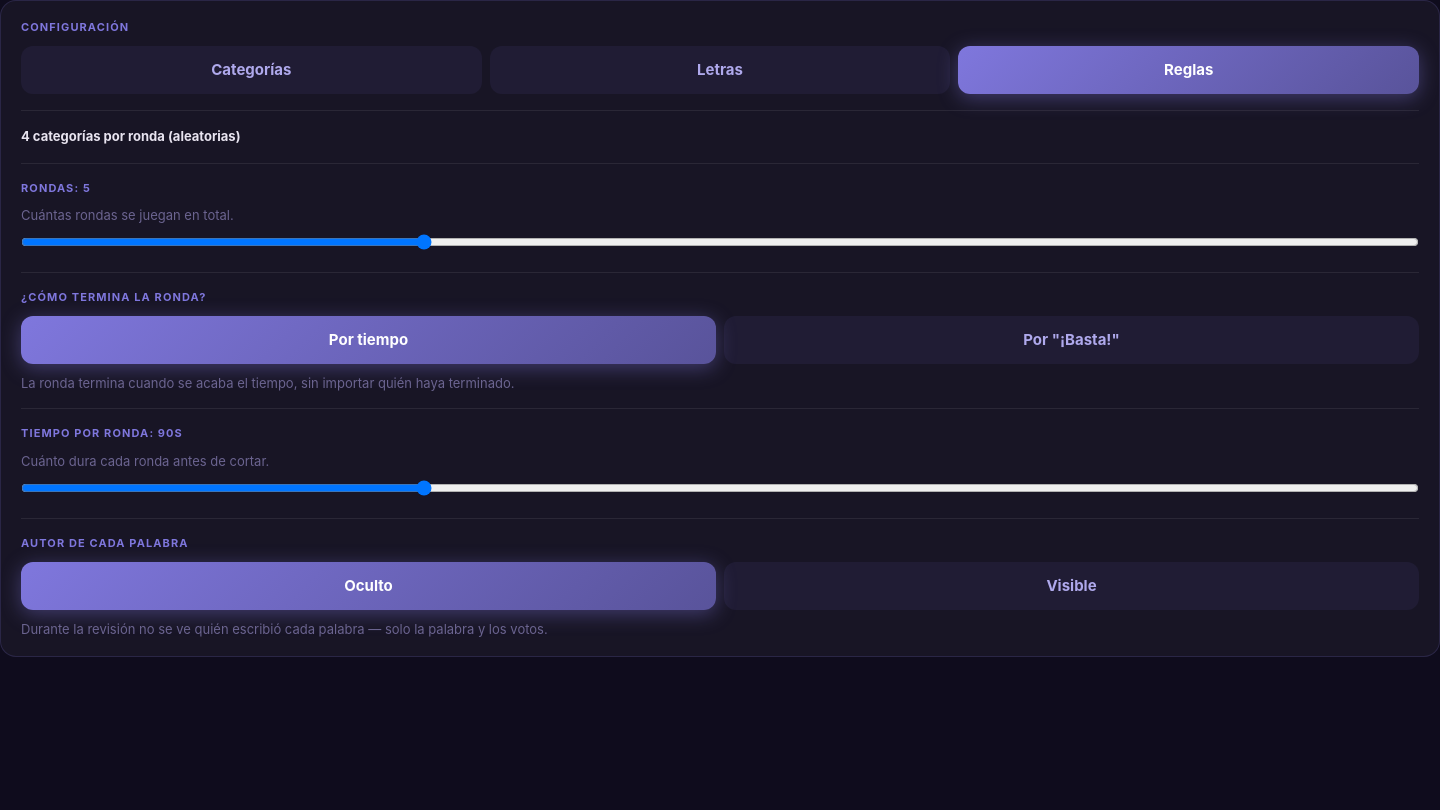
Test: Tutifrutti ConfigPanel › random category mode hides the manual toggle list and shows the count slider
Click the button "Categorías": (251, 70) [21,46,482,94]
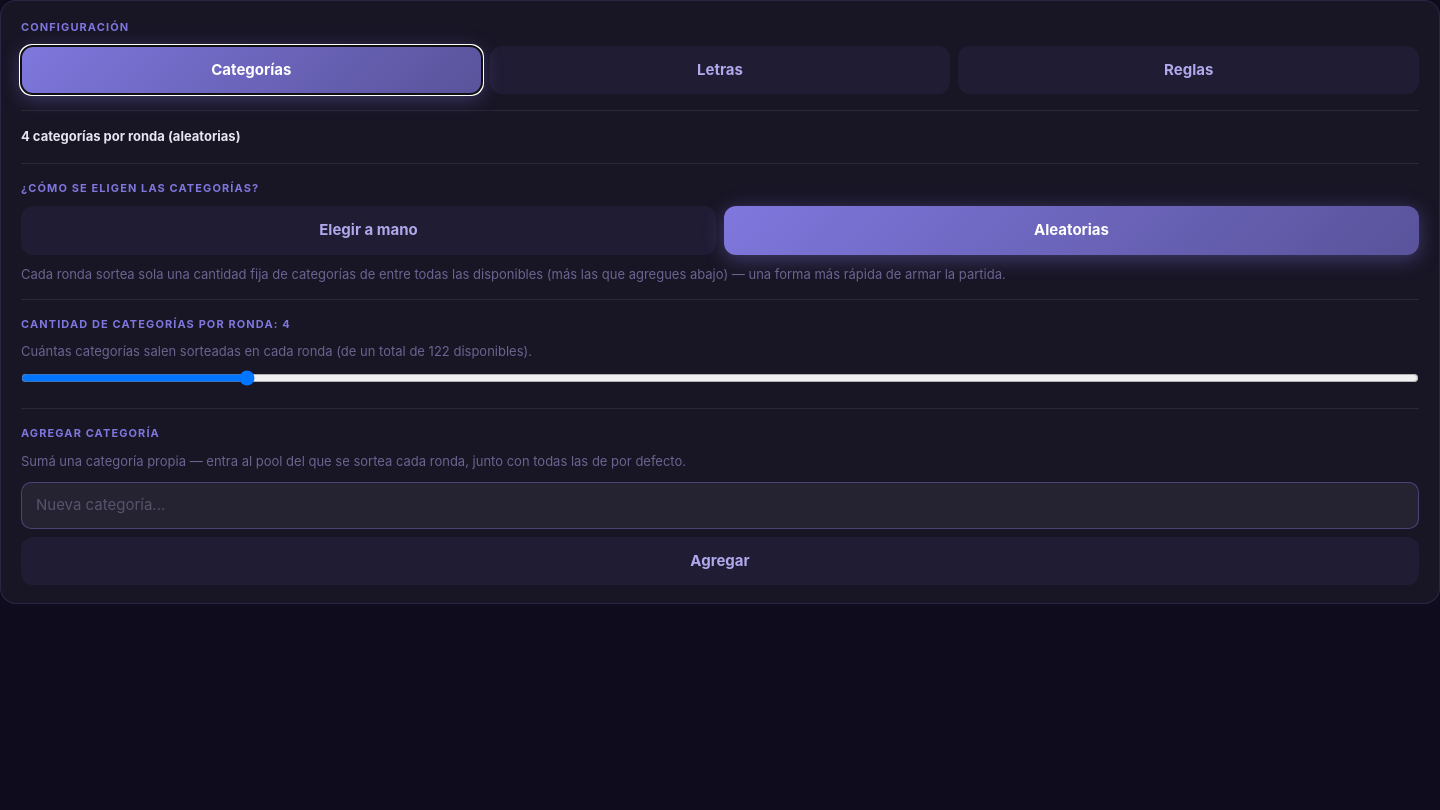
Now the text "Cantidad de categorías por ronda: 4" is shown, box [21,317,291,331]
